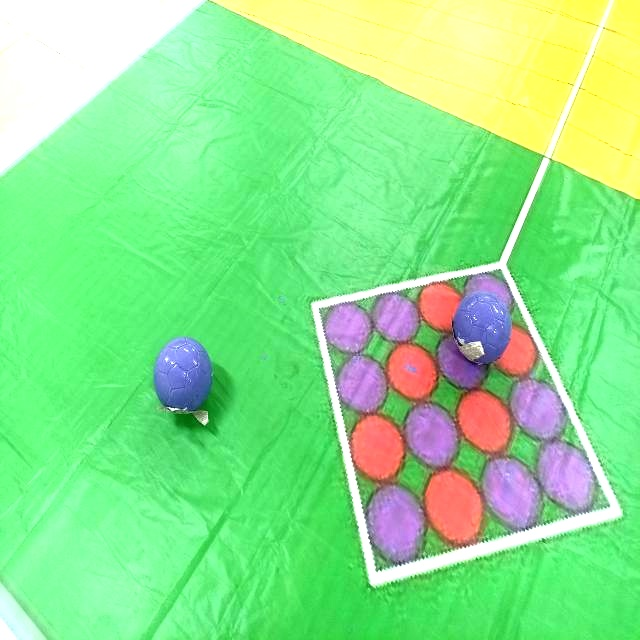purple_ball: (152, 334, 215, 424), (454, 290, 512, 368)
